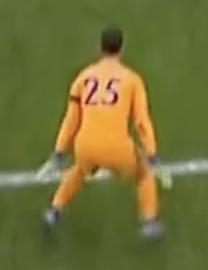goalkeeper: (24, 15, 201, 256)
